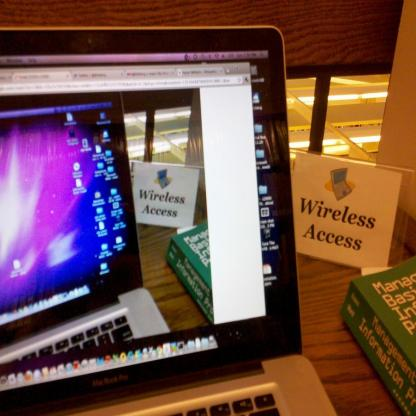board: (0, 26, 339, 416), (0, 92, 169, 365)
